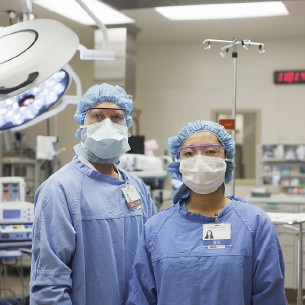Mask: (177, 141, 227, 192)
